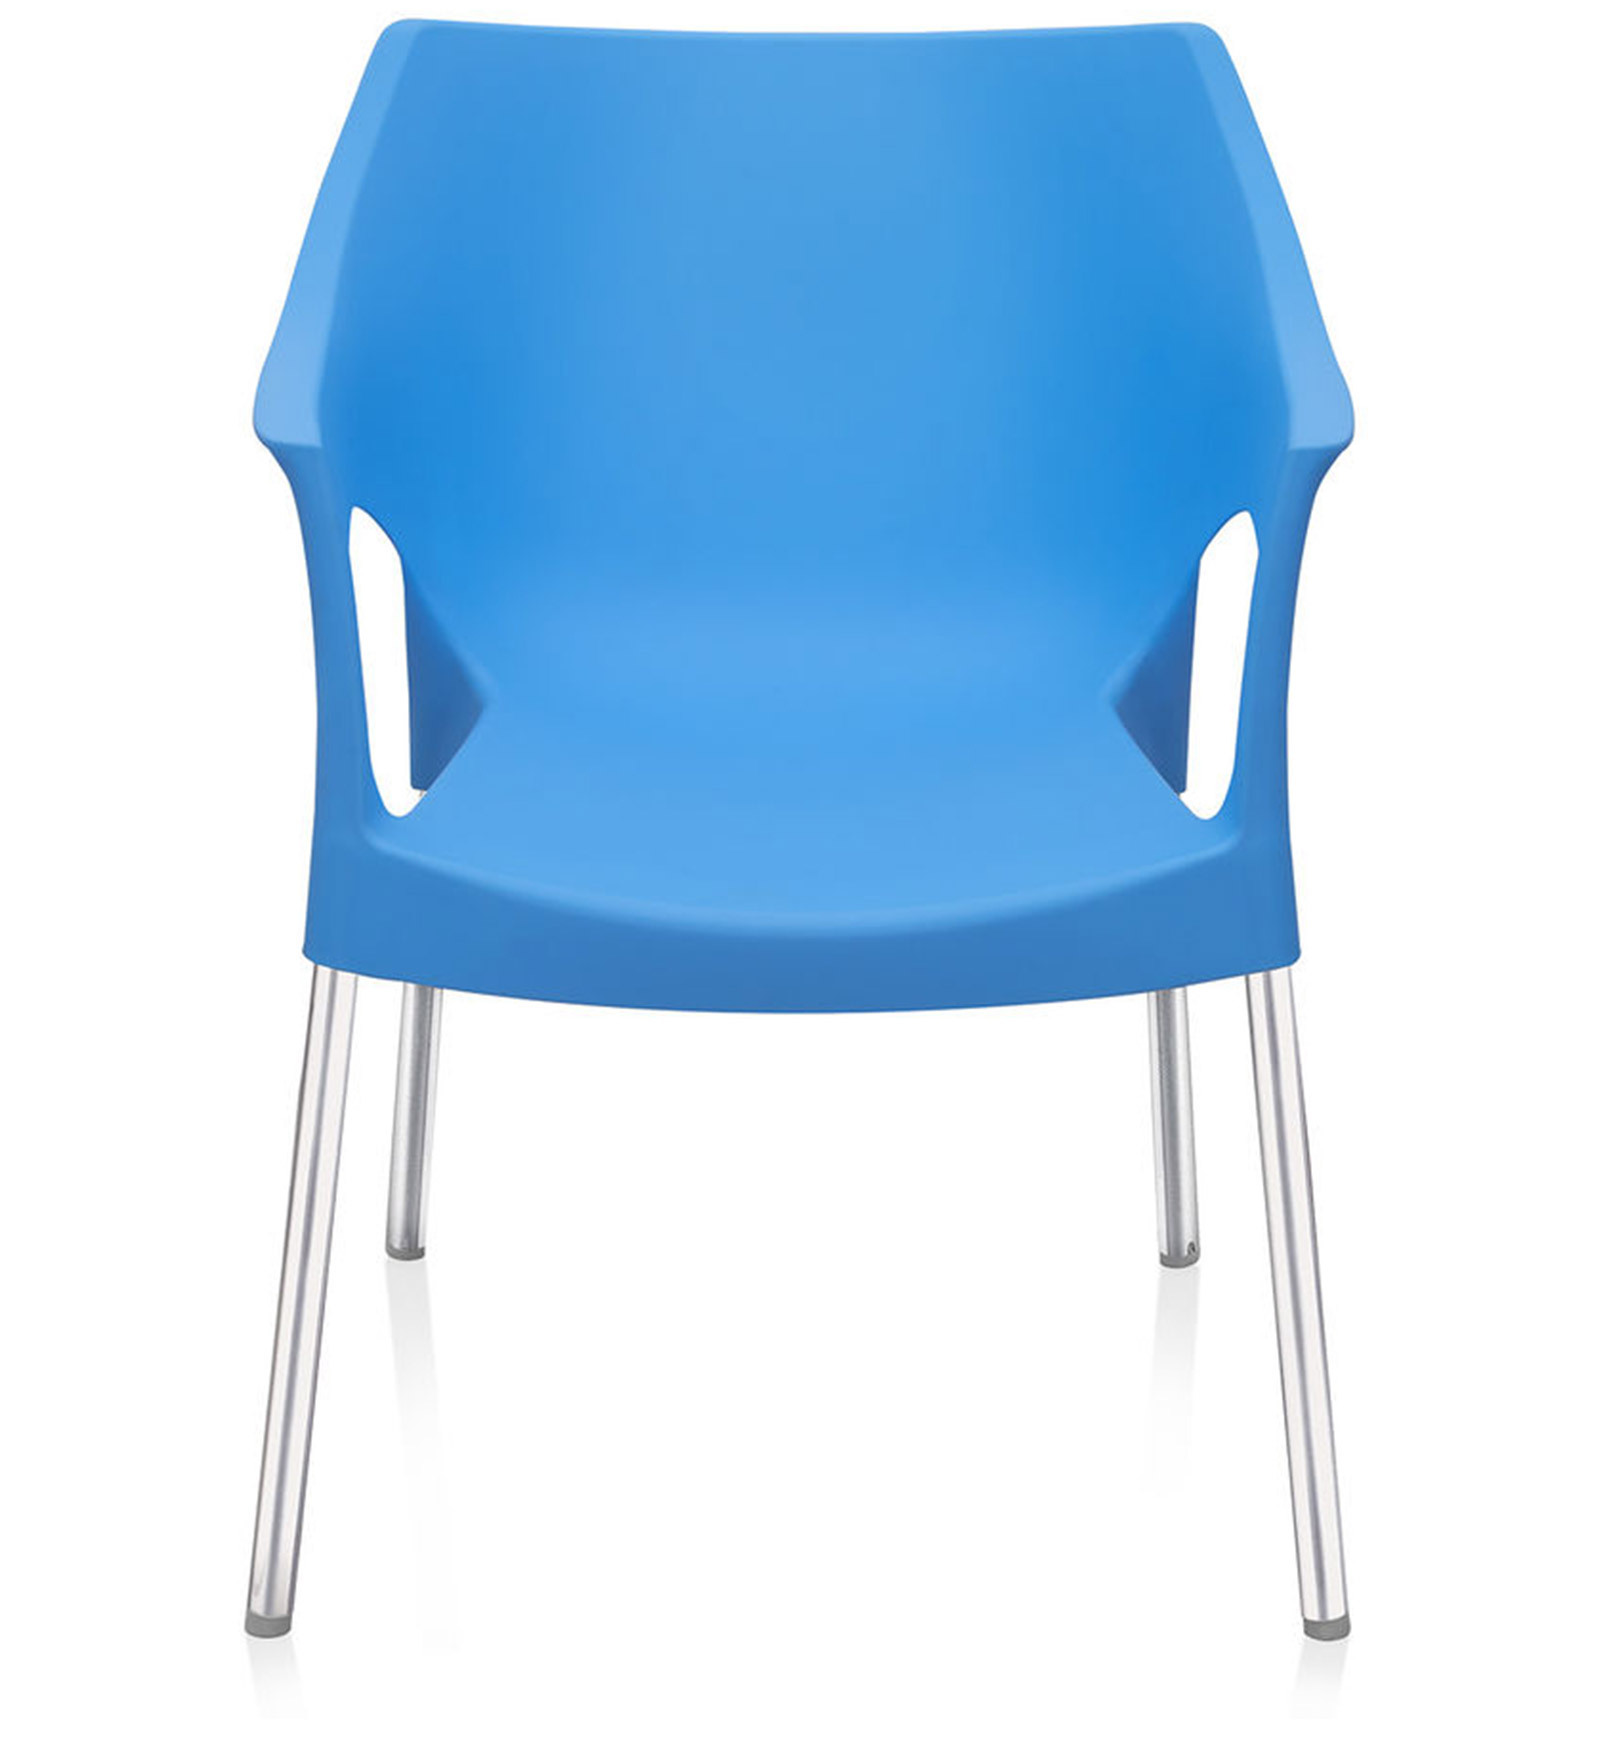Novella Series - 10 Set of 2 Chairs in Blue Colour by Nilkamal: (242, 14, 1356, 1643)
